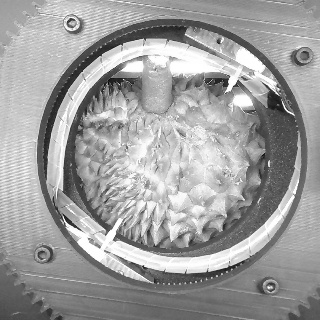base: (133, 90, 182, 121)
end: (146, 54, 170, 69)
